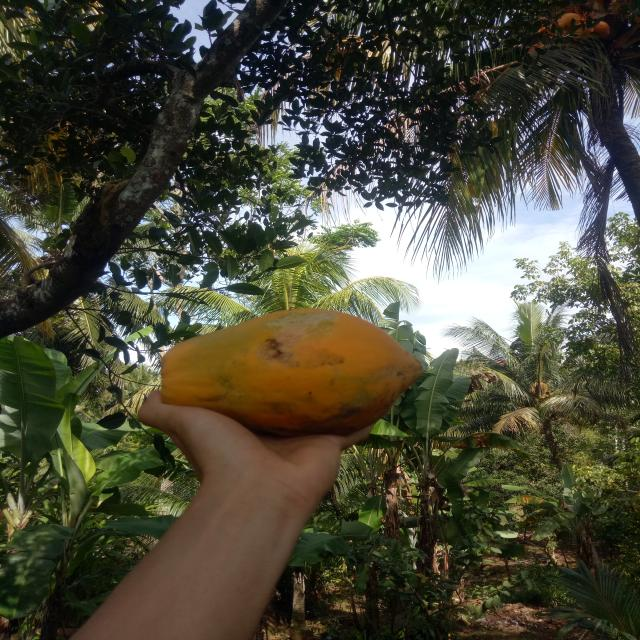Pepaya rippen: (145, 303, 428, 445)
